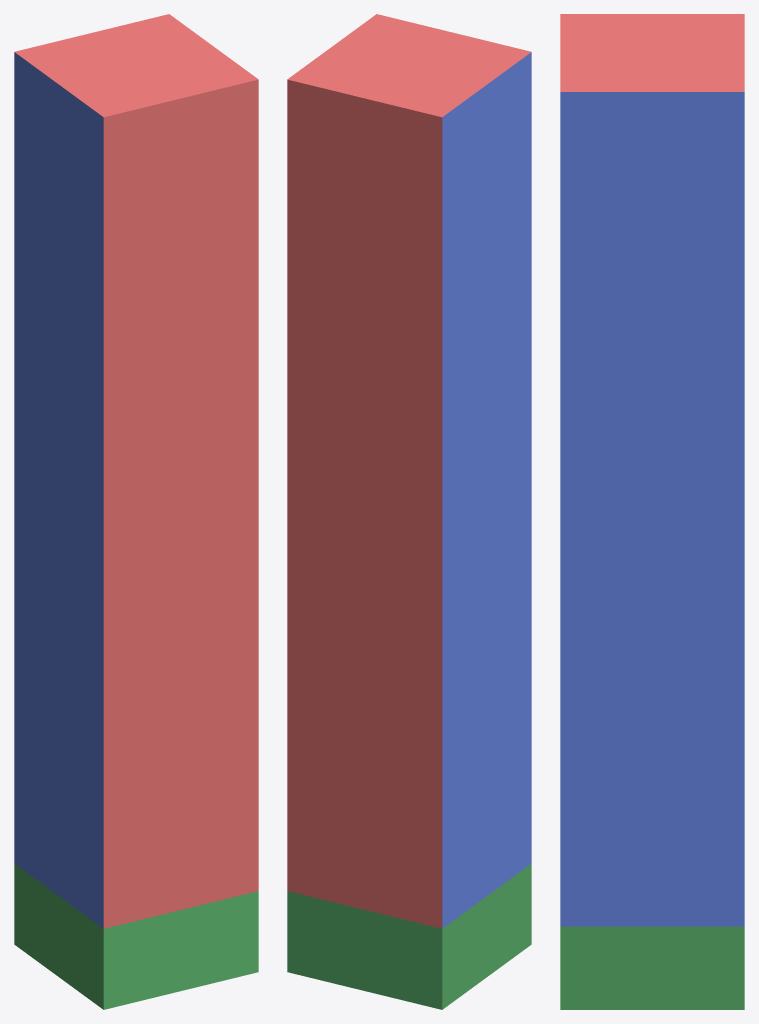
The model's file is init_negative.pipe_length_4_0.dae.
3 renders of one model, left to right at view 1: azimuth 30°, elevation 25°; view 2: azimuth 150°, elevation 25°; view 3: azimuth 270°, elevation 25°, orthographic. The views are drawn at different scales.
Parts seen in each view (by area): view 1: ZXO (×2), ZXX (×3), Y (×2); view 2: ZXO (×2), ZXX (×3), Y (×2); view 3: ZXO, ZXX (×2), Y.
Boxes of the visible parts, left/top/right/bottom form: ZXO (×2): left=14, top=214, right=258, bottom=928; ZXX (×3): left=14, top=14, right=258, bottom=279; Y (×2): left=14, top=863, right=258, bottom=1009; ZXO (×2): left=287, top=214, right=531, bottom=928; ZXX (×3): left=287, top=14, right=531, bottom=279; Y (×2): left=287, top=863, right=531, bottom=1009; ZXO: left=560, top=258, right=744, bottom=926; ZXX (×2): left=560, top=14, right=744, bottom=258; Y: left=560, top=926, right=744, bottom=1009.
Bounding box in the file's own units: 1 × 1 × 5.5.
